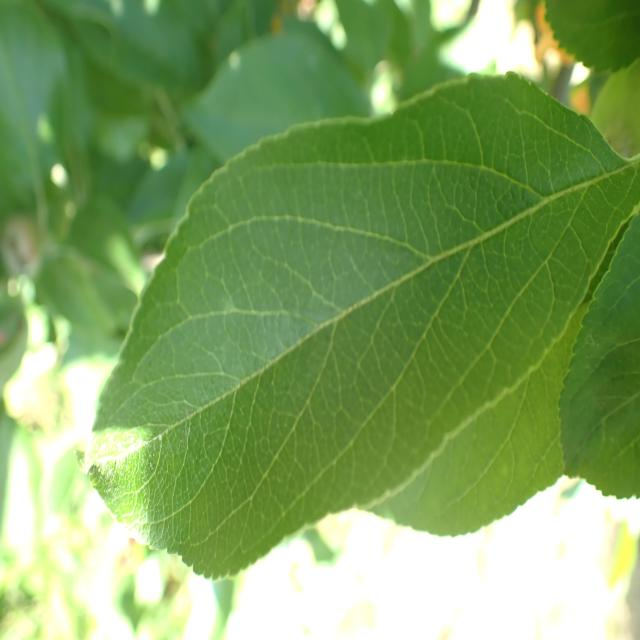healthy: (77, 71, 638, 581), (558, 205, 640, 501)
